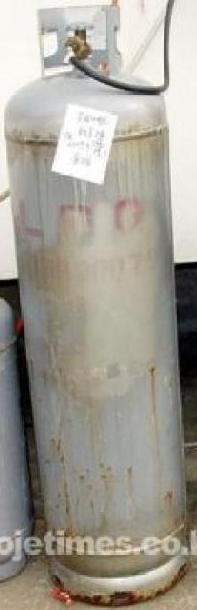cylinder: (1, 1, 197, 610)
